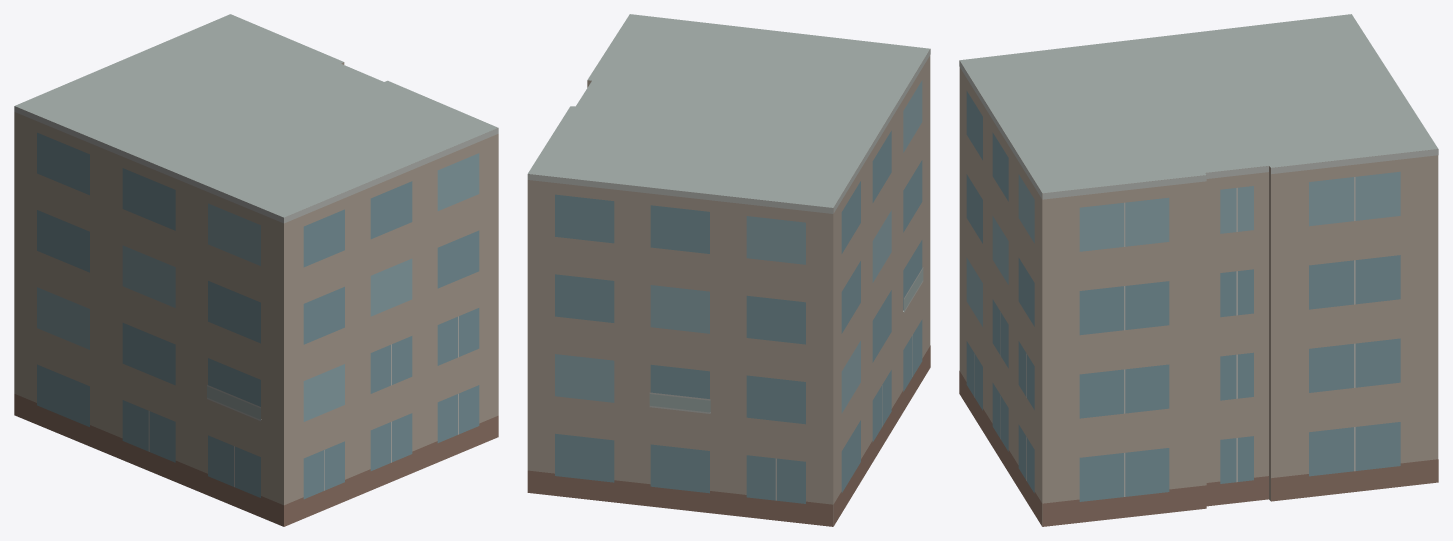
File: survey-upis-32925979.glb
3 views of the same model, side by side, from view 1: azimuth 30°, elevation 25°; view 2: azimuth 150°, elevation 25°; view 3: azimuth 270°, elevation 25° (orthographic). The views are drawn at different scales.
Visible parts, largest first — view 1: survey-upis-32925979.tmp; view 2: survey-upis-32925979.tmp; view 3: survey-upis-32925979.tmp.
Boxes of the visible parts, <box> form: survey-upis-32925979.tmp: <box>14,14,498,526</box>; survey-upis-32925979.tmp: <box>527,14,930,526</box>; survey-upis-32925979.tmp: <box>959,14,1438,526</box>.
Size of the model in its own units: 14.89 by 12.9 by 16.8.
